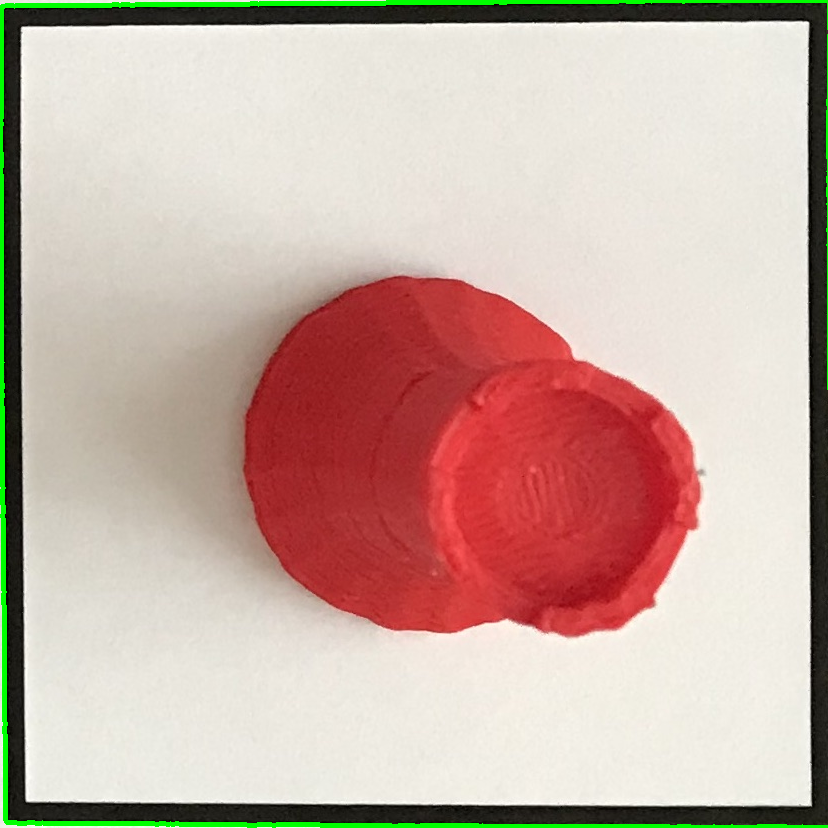Red Castle: (231, 262, 713, 658)
